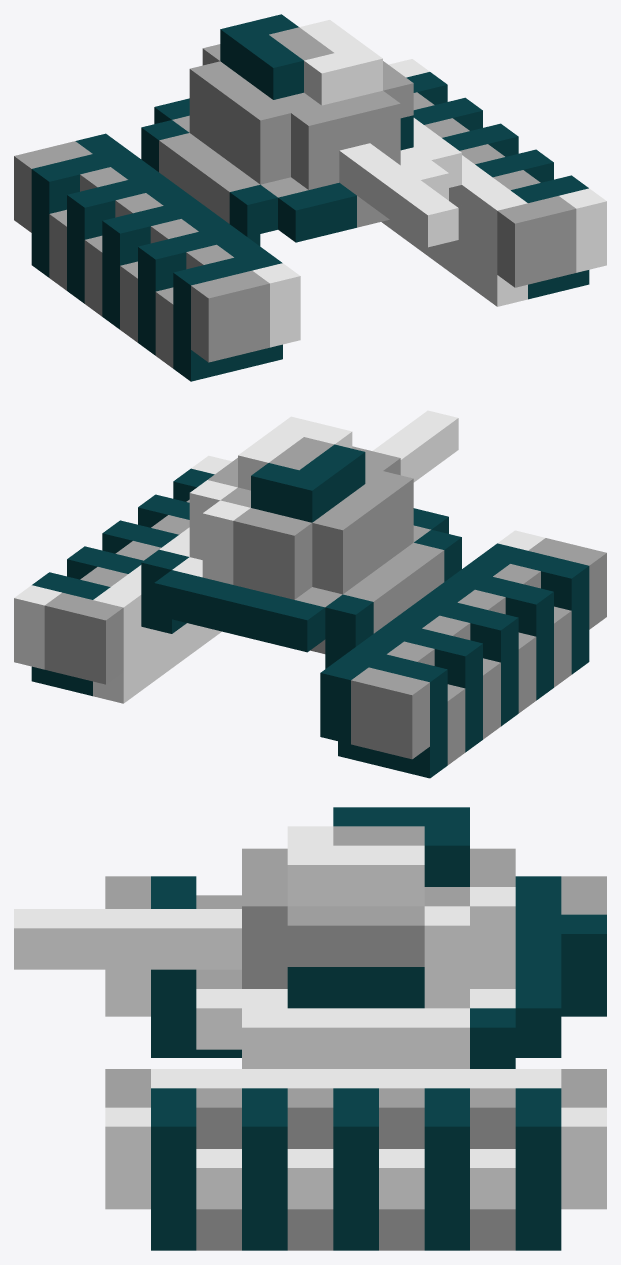
File: GreyTankT1.fbx
3 views of the same model, one above another, from view 1: azimuth 30°, elevation 25°; view 2: azimuth 150°, elevation 25°; view 3: azimuth 270°, elevation 25° (orthographic). The views are drawn at different scales.
Visible parts, largest first — view 1: BC1.001; view 2: BC1.001; view 3: BC1.001.
Part boxes in pixels (<box>): BC1.001: <box>14,14,606,381</box>; BC1.001: <box>14,410,606,778</box>; BC1.001: <box>14,807,606,1250</box>.
Bounding box in the file's own units: 1300 × 700 × 1300.
